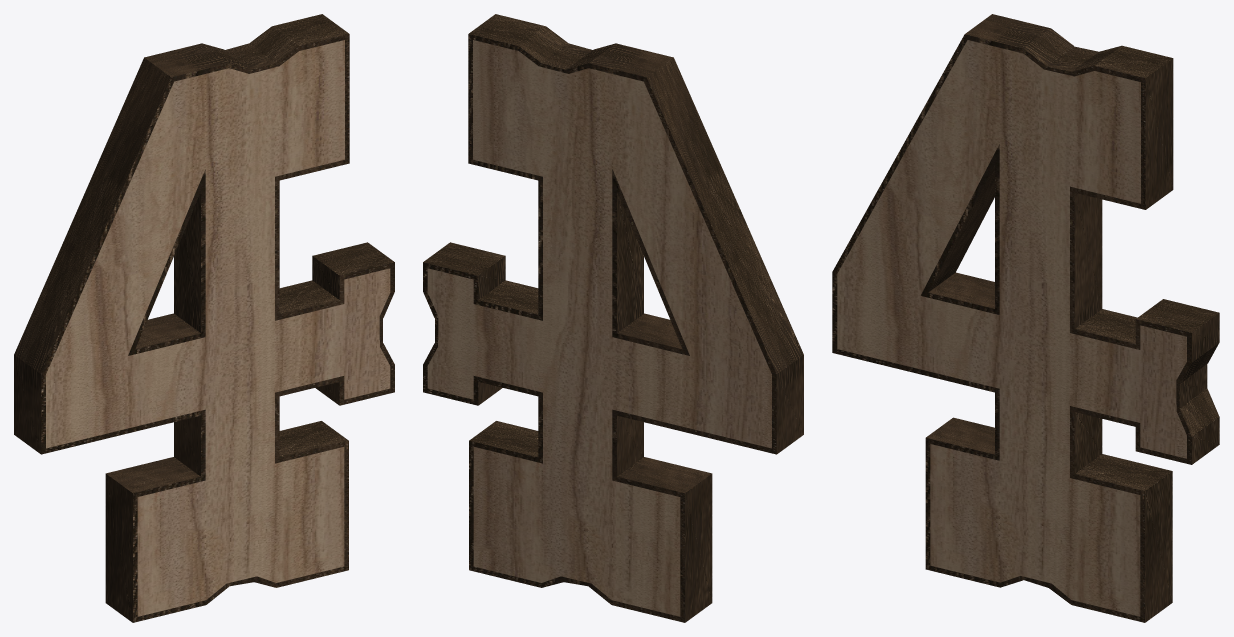
3 renders of one model, left to right at view 1: azimuth 30°, elevation 25°; view 2: azimuth 150°, elevation 25°; view 3: azimuth 330°, elevation 25°, orthographic.
Visible parts, largest first — view 1: 4, 4_outline; view 2: 4, 4_outline; view 3: 4, 4_outline.
Boxes of the visible parts, x1,y1,x2,y2 form: 4: (46,40,390,616); 4_outline: (14,14,394,622); 4: (427,40,771,616); 4_outline: (423,14,803,622); 4: (837,40,1186,616); 4_outline: (832,14,1219,622).
Size of the model in its own units: 75.12 by 109 by 10.
2 materials, 2 textured.
